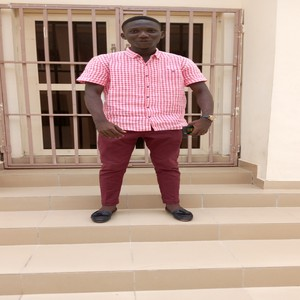Fulokoja_male_student: (94, 20, 192, 223)
